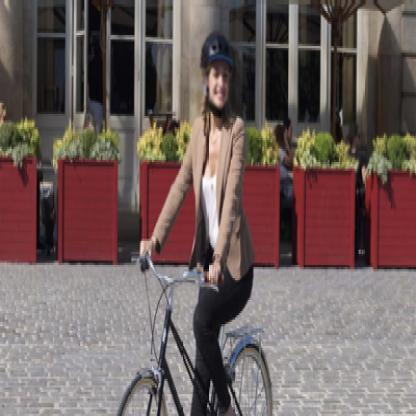Helmet: (192, 27, 241, 126)
